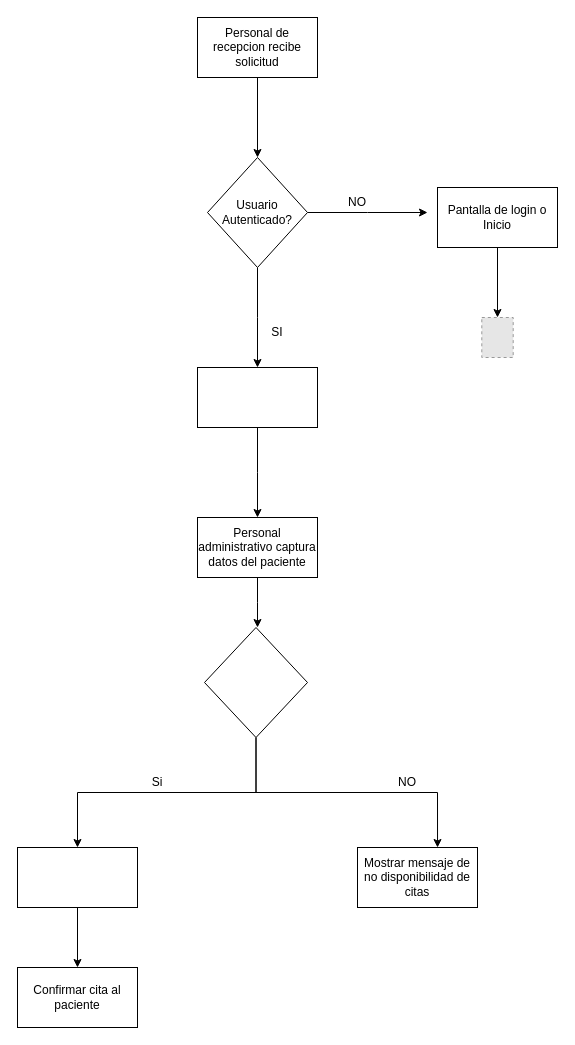
Image size: 575x1045. Some labels were removed from this diagram. Grey dashed boxes stand in for pictures. Here are the shapes that lost their labels. From the top down, the box of each, then its label:
(196, 366, 318, 428): Sistema muestra el formulario
(204, 626, 308, 738): Hay disponibilidad?
(16, 846, 138, 908): Registrar cita
